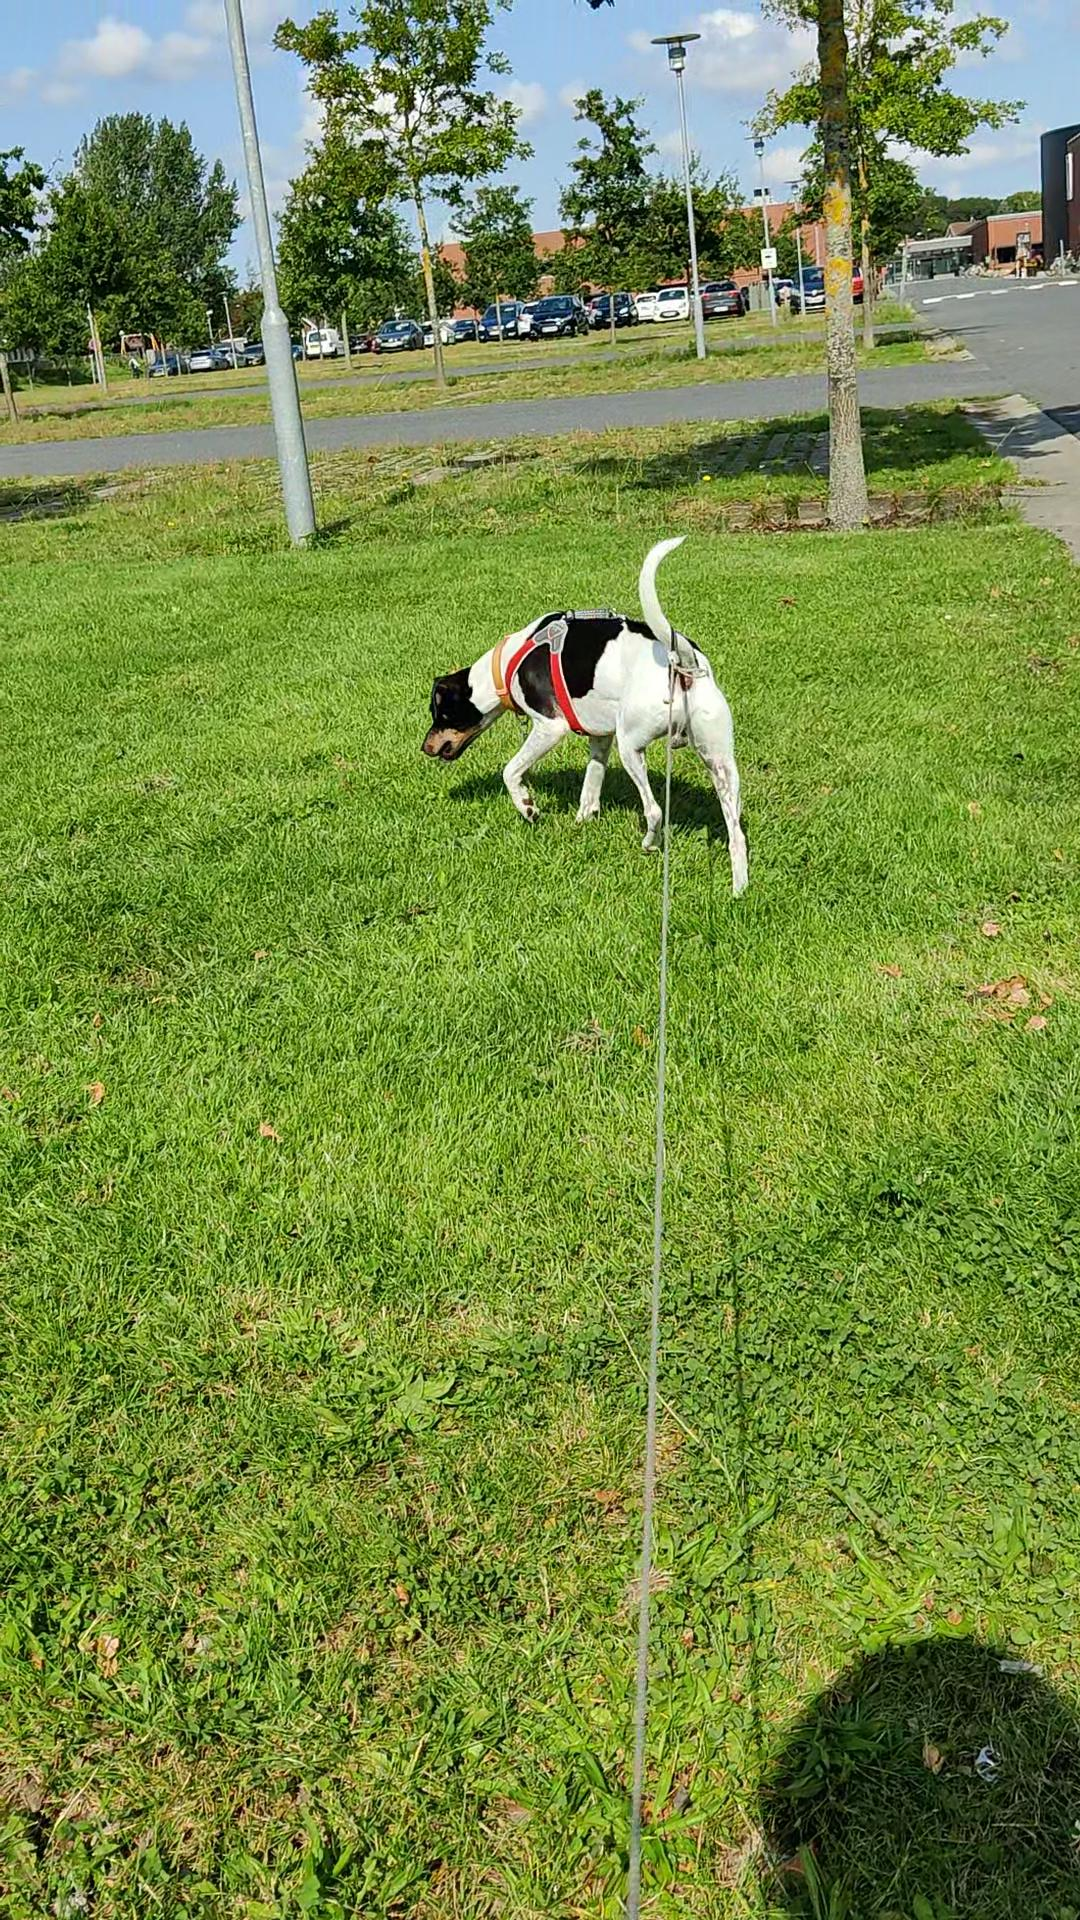Dog: (397, 518, 756, 909)
